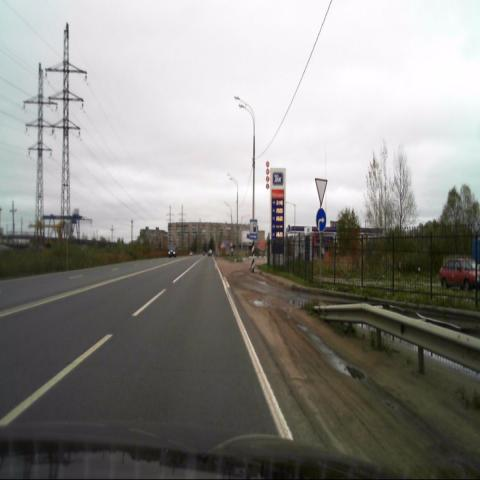4_1_2: (316, 208, 326, 232)
